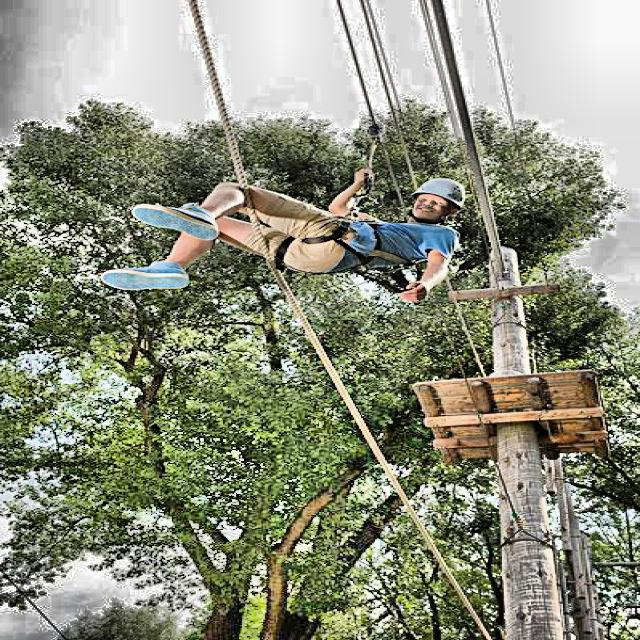helmet: (406, 172, 470, 223)
